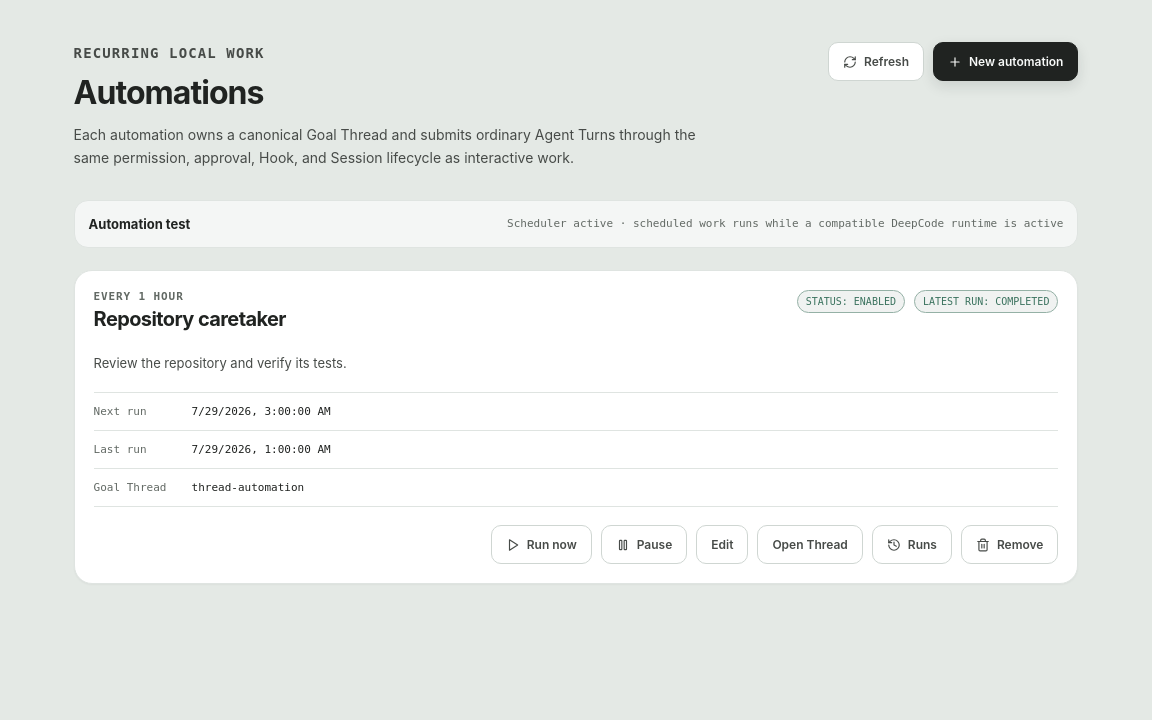
AutomationsPage › recovers the inventory and visible Run history after server.warning
Expected: the heading "Repository caretaker" is shown, [94,306,286,330]
Click the button "Runs".
click(912, 545)  # box [872,525,952,564]
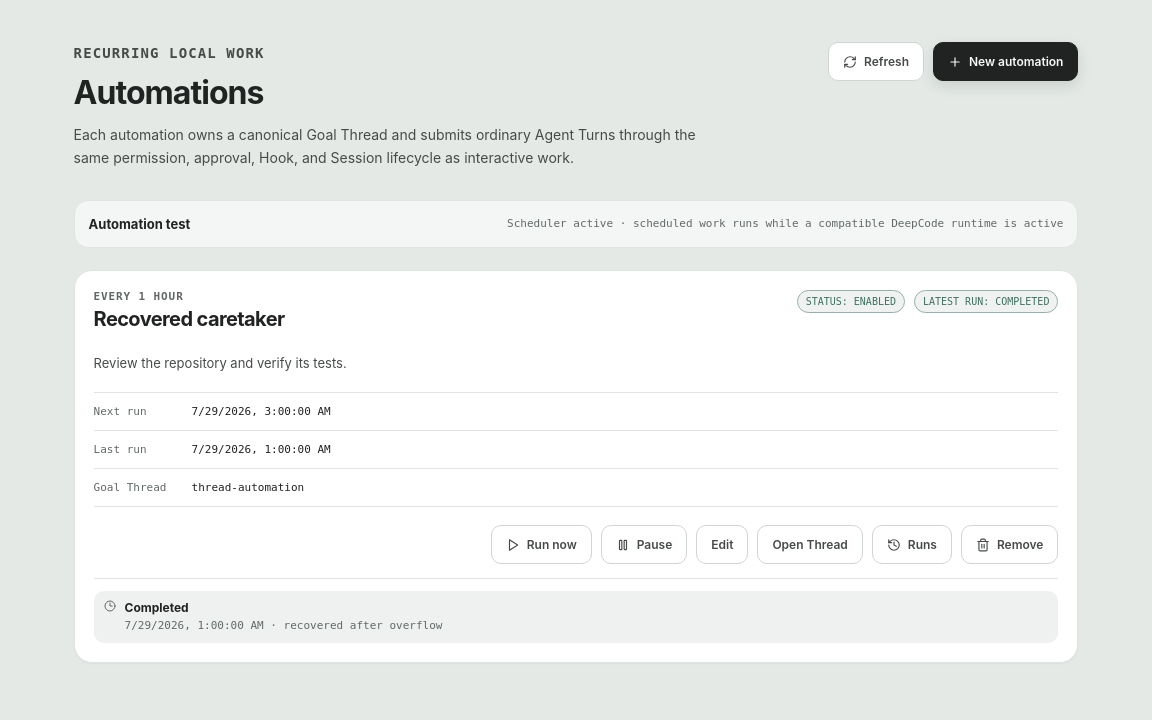
Expected: the heading "Recovered caretaker" is shown, [94,306,284,330]
Expected: the text "7/29/2026, 1:00:00 AM · recovered after overflow" is shown, [125,619,442,632]
